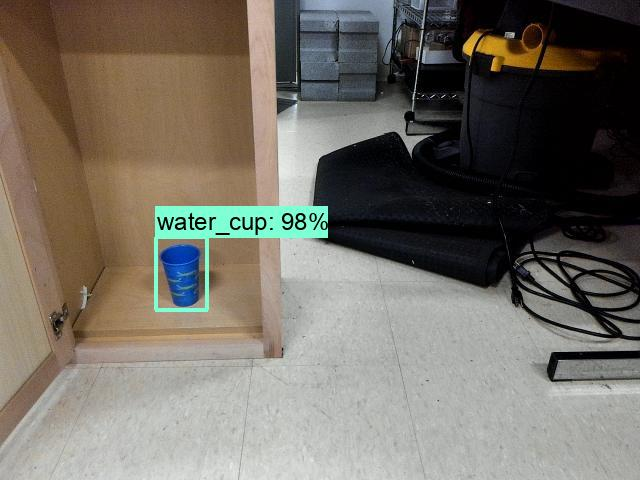water_cup: (157, 239, 208, 308)
